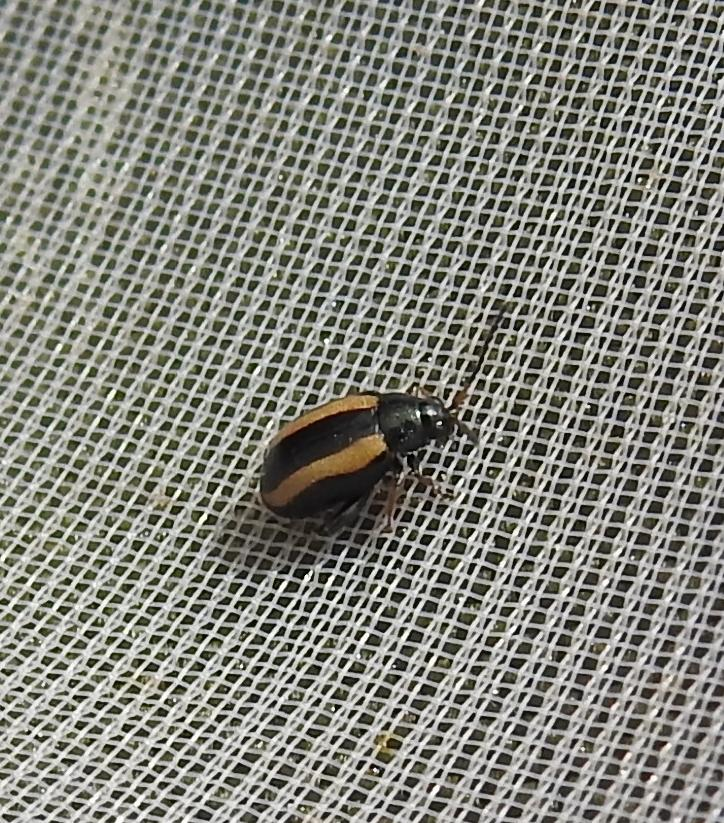flea_beetle: (200, 288, 547, 578)
